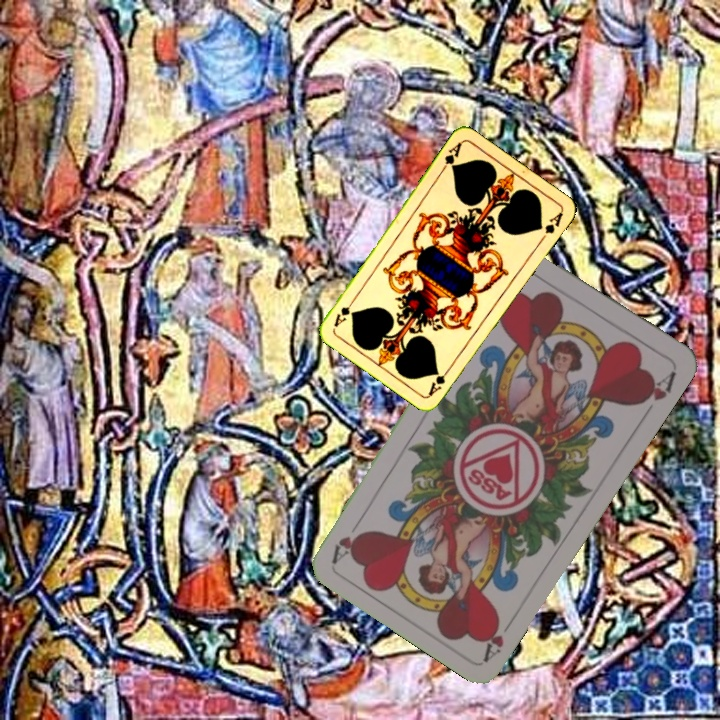GA: (424, 362, 454, 398), (437, 138, 465, 175)
HA: (478, 609, 520, 662)
